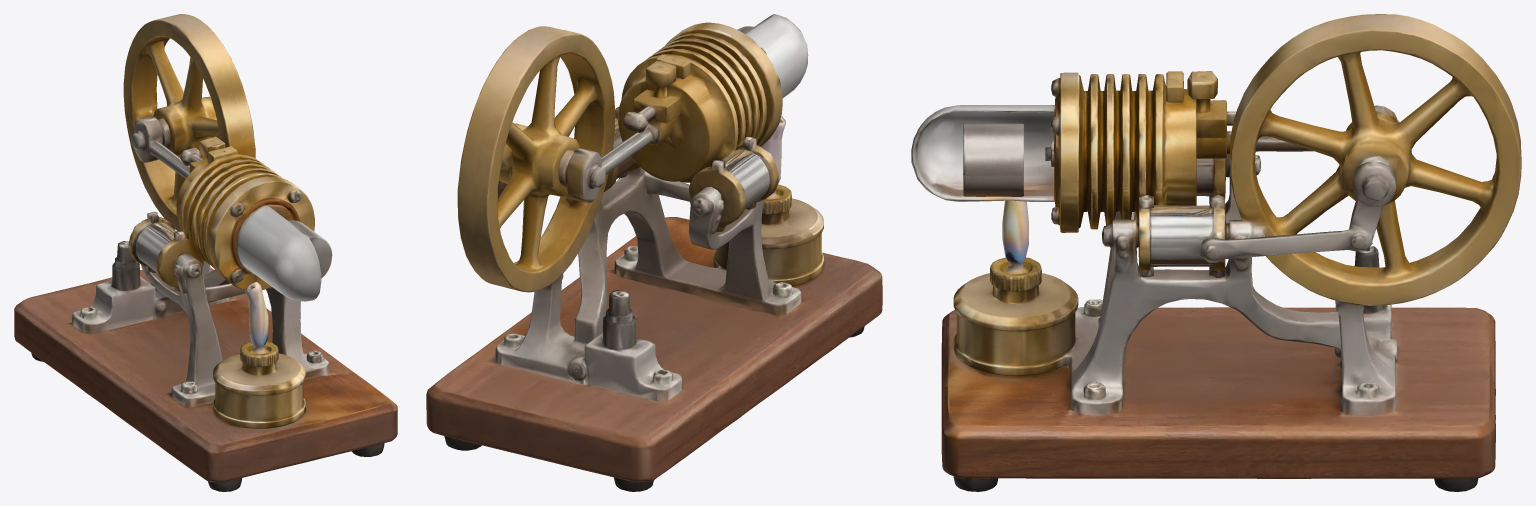
File: stirling-engine.glb
3 views of the same model, side by side, from view 1: azimuth 30°, elevation 25°; view 2: azimuth 150°, elevation 25°; view 3: azimuth 270°, elevation 25° (orthographic). The views are drawn at different scales.
Visible parts, largest first — view 1: stirling-engine; view 2: stirling-engine; view 3: stirling-engine.
Part boxes in pixels (bbox=[...]): stirling-engine: bbox=[14, 14, 397, 491]; stirling-engine: bbox=[426, 14, 882, 491]; stirling-engine: bbox=[911, 14, 1521, 491].
Bounding box in the file's own units: 0.098 × 0.1601 × 0.2.
Materials: 1 (1 with a texture image).
